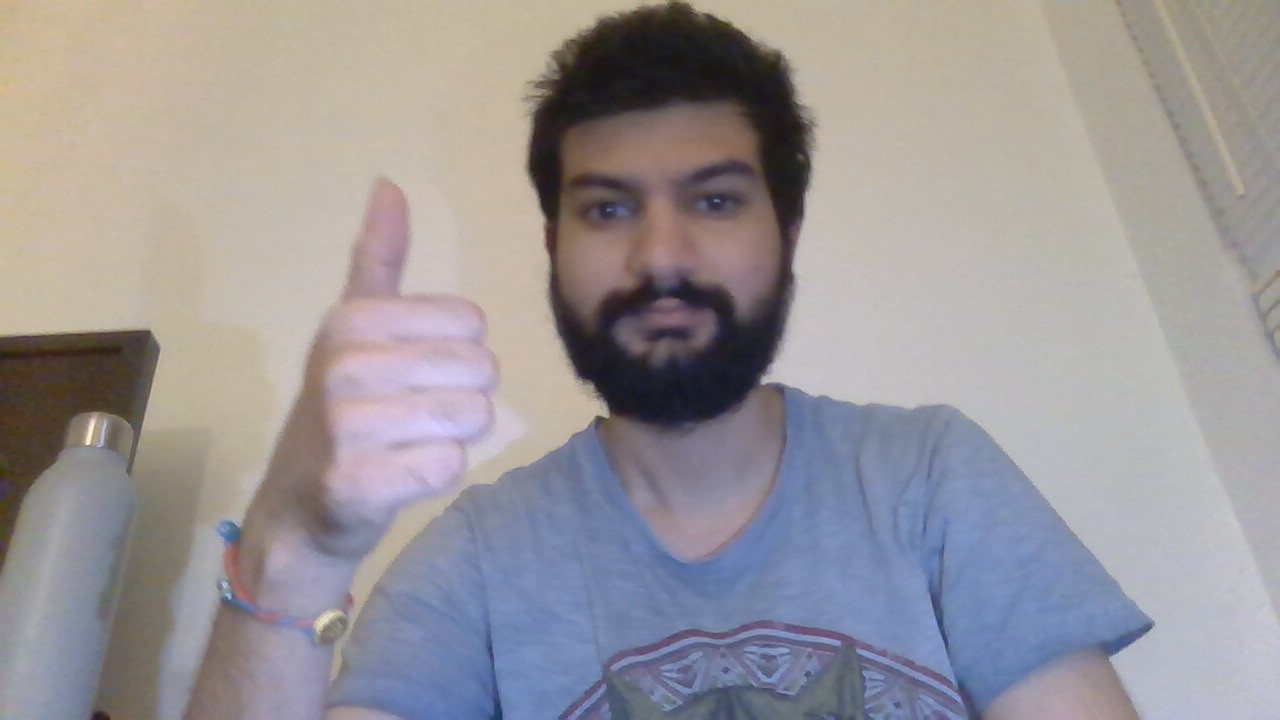up: (275, 170, 515, 525)
